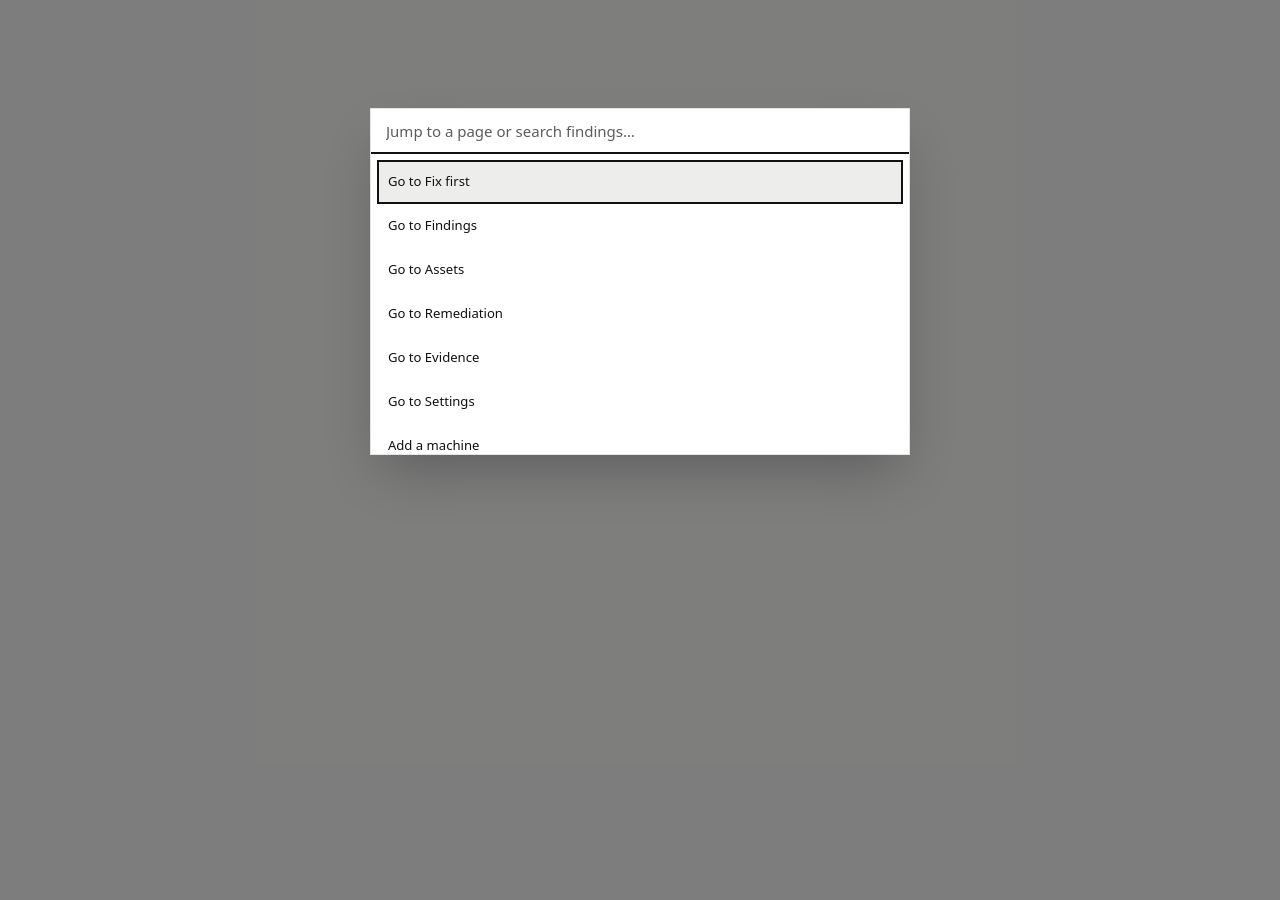
Test: the palette never dead-ends: any text offers a findings search, and the list is a valid listbox
The width and height of the screenshot is (1280, 900).
Step 1. Type "zzzzzz" into the dropdown → (640, 132), box x1=371 y1=109 x2=909 y2=154
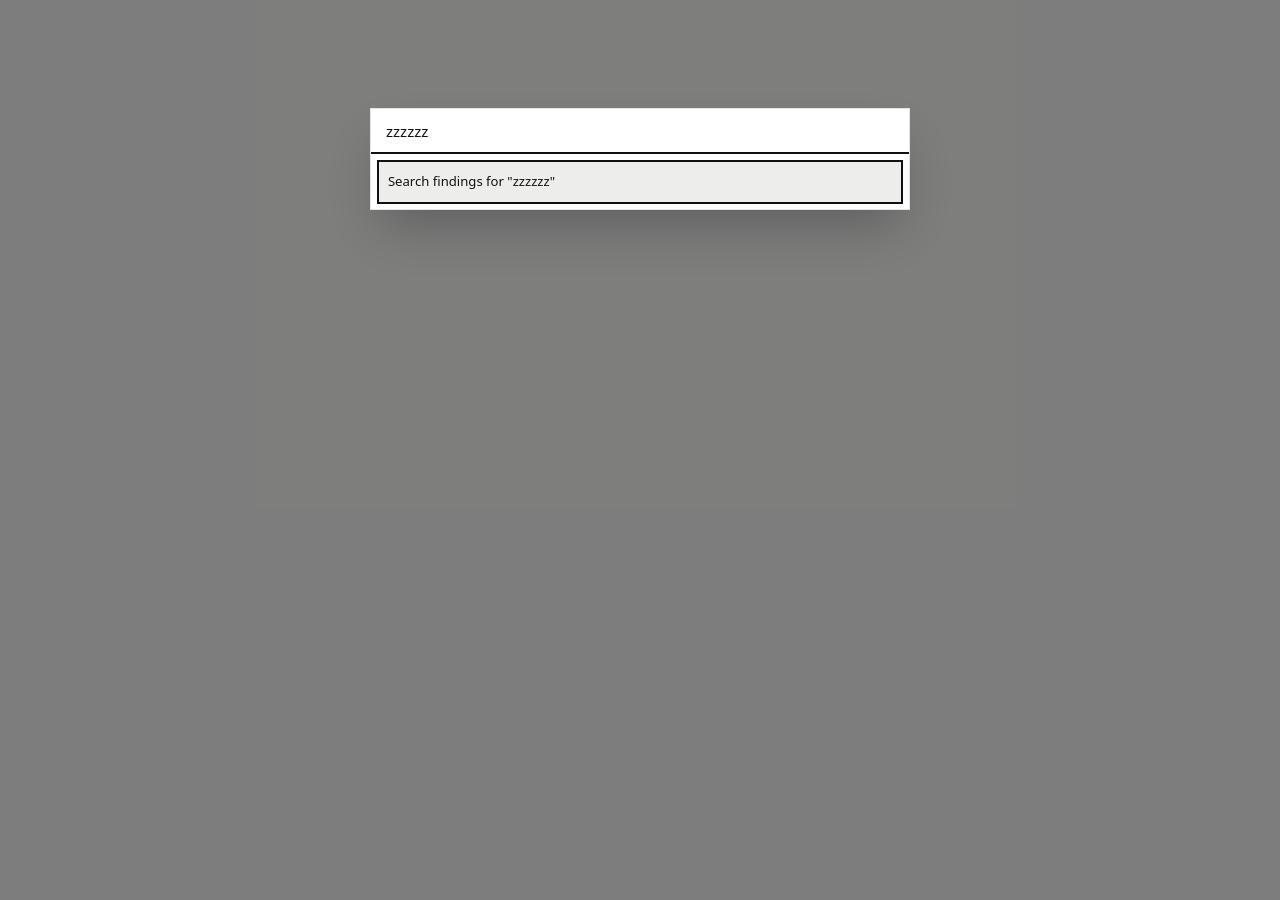
Expected: the option "Search findings for \"zzzzzz\"" is shown, x1=377 y1=160 x2=903 y2=204
